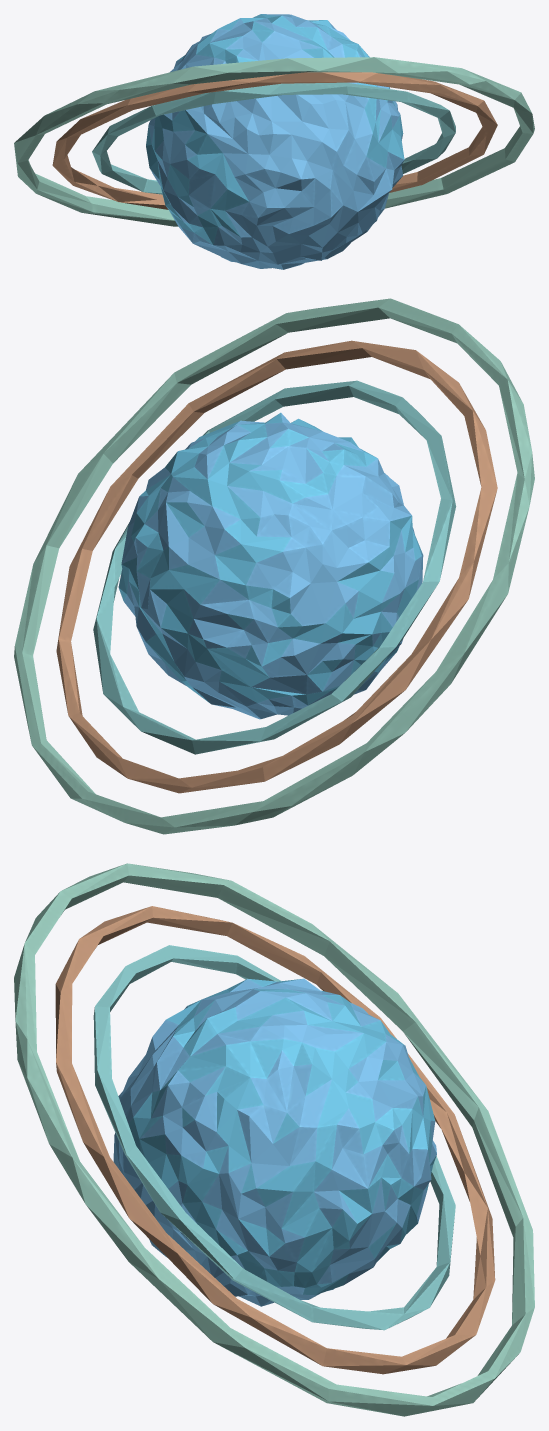
Rendered from Uranus.FBX.
3 renders of one model, top to bottom at view 1: azimuth 30°, elevation 25°; view 2: azimuth 150°, elevation 25°; view 3: azimuth 270°, elevation 25°, orthographic. The views are drawn at different scales.
Parts seen in each view (by area): view 1: Uranus; view 2: Uranus; view 3: Uranus.
Part boxes in pixels (x1,y1,x2,y2): Uranus: (14,14,534,269); Uranus: (14,298,534,834); Uranus: (14,863,534,1416).
Size of the model in its own units: 1.22 by 0.8673 by 1.
